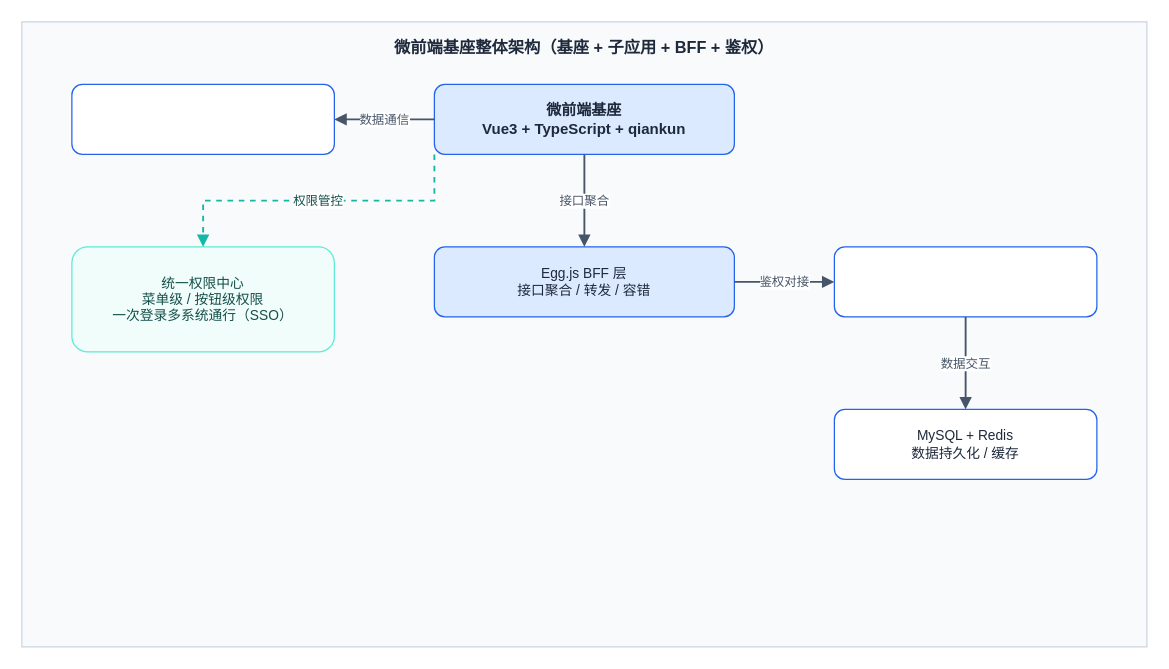
Image size: 1169x669. Some labels were removed from this diagram. Each missing label, with the box of its shape:
SpringBoot 后端鉴权服务: (833, 246, 1097, 317)
各子应用 Vue2 / Vue3 / React / jQuery: (71, 83, 334, 154)
